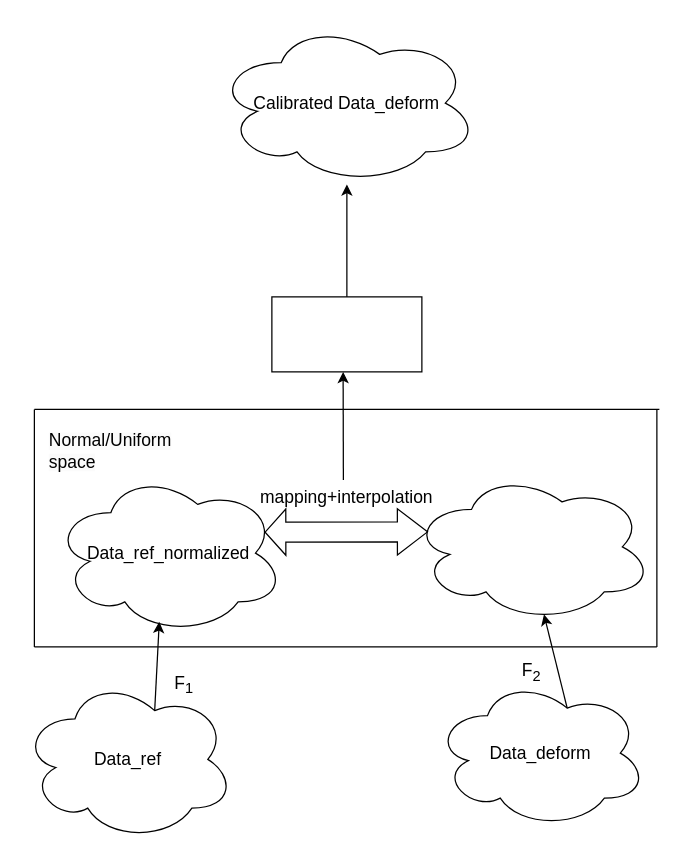
This 683x863 diagram has some shape labels left out. The box of each missing label's shape, as (x1, y1, x2, y2) in pixels:
Data_deform_normalized: (410, 471, 652, 622)
Map Model: (271, 296, 422, 372)
